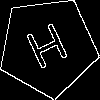H: (23, 22, 75, 79)
